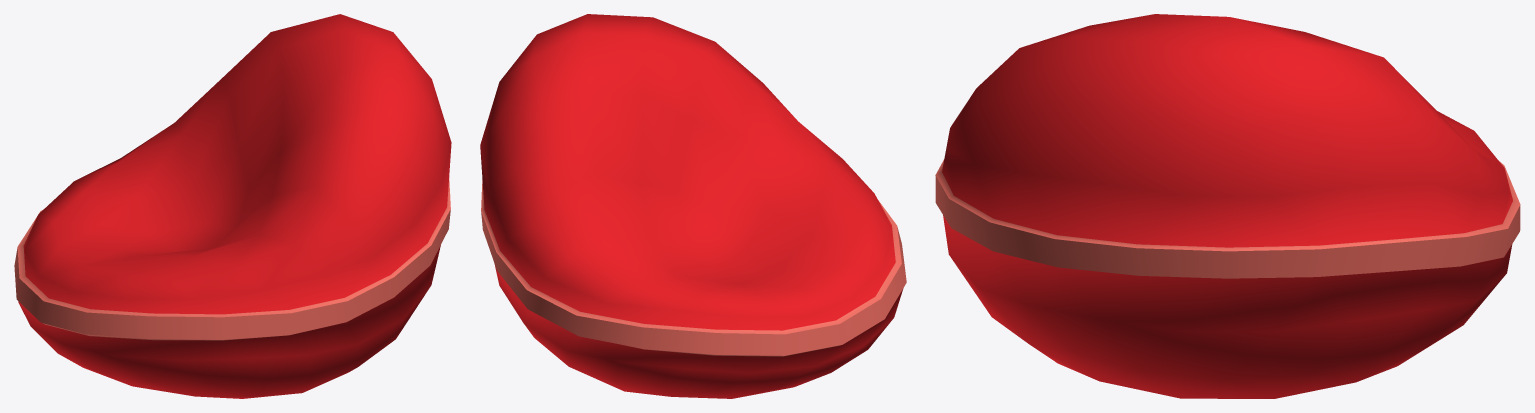
File: Beanbag04.fbx
3 views of the same model, side by side, from view 1: azimuth 30°, elevation 25°; view 2: azimuth 150°, elevation 25°; view 3: azimuth 270°, elevation 25° (orthographic). The views are drawn at different scales.
Visible parts, largest first — view 1: Beanbag04; view 2: Beanbag04; view 3: Beanbag04.
Boxes of the visible parts, box(x1,y1,x2,y2) form: Beanbag04: box(14, 14, 451, 398); Beanbag04: box(480, 14, 906, 398); Beanbag04: box(935, 14, 1520, 398).
Size of the model in its own units: 0.4009 by 0.3852 by 0.2993.
